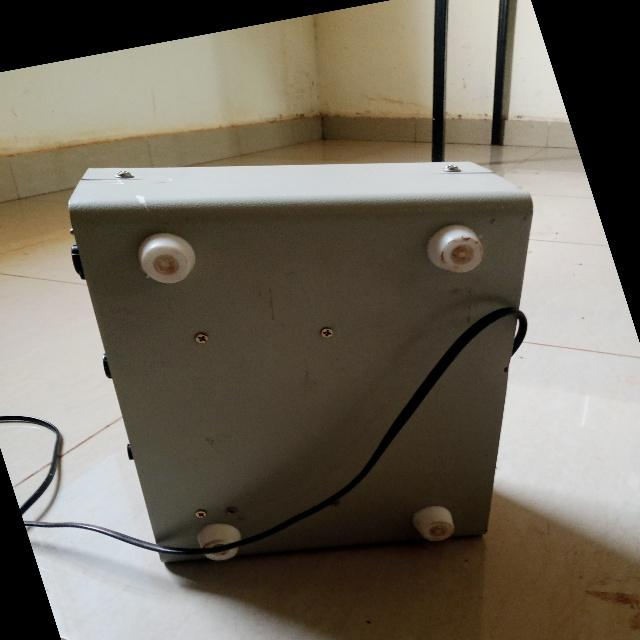Function Generator 100Khz: (0, 89, 639, 602)
